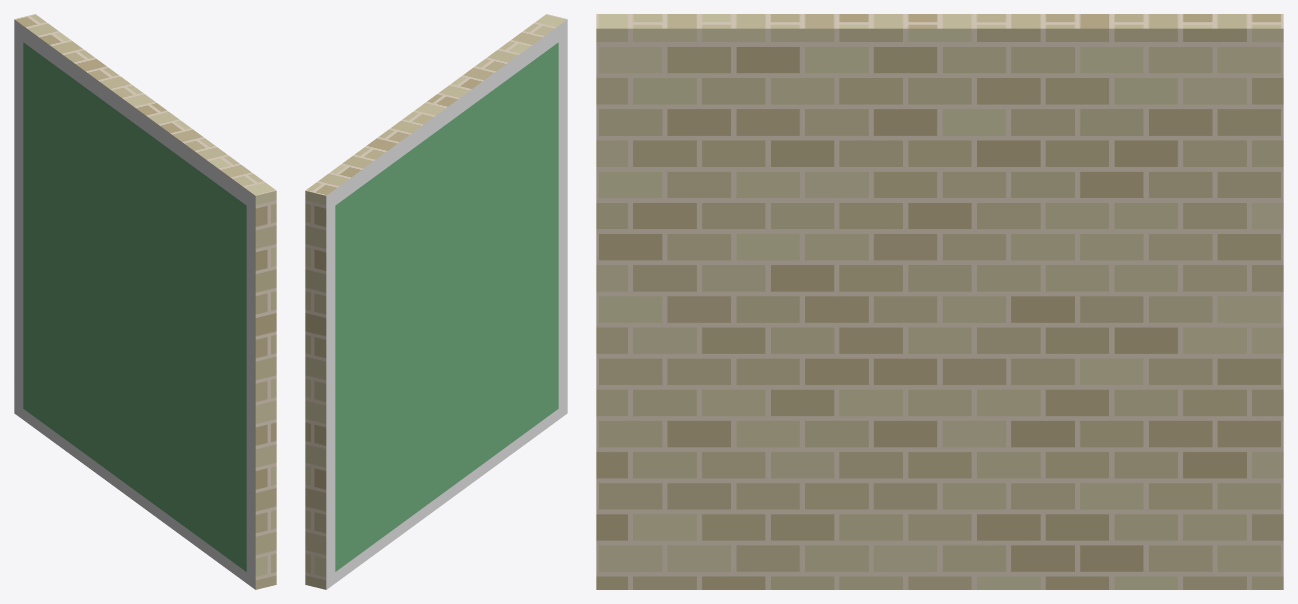
Rendered from Wall top A.fbx.
3 renders of one model, left to right at view 1: azimuth 30°, elevation 25°; view 2: azimuth 150°, elevation 25°; view 3: azimuth 270°, elevation 25°, orthographic. The views are drawn at different scales.
Visible parts, largest first — view 1: Wall-Top A; view 2: Wall-Top A; view 3: Wall-Top A.
Part boxes in pixels (<box>): Wall-Top A: <box>14,14,276,589</box>; Wall-Top A: <box>305,14,567,589</box>; Wall-Top A: <box>596,14,1283,589</box>.
Size of the model in its own units: 40.62 by 721 by 800.
